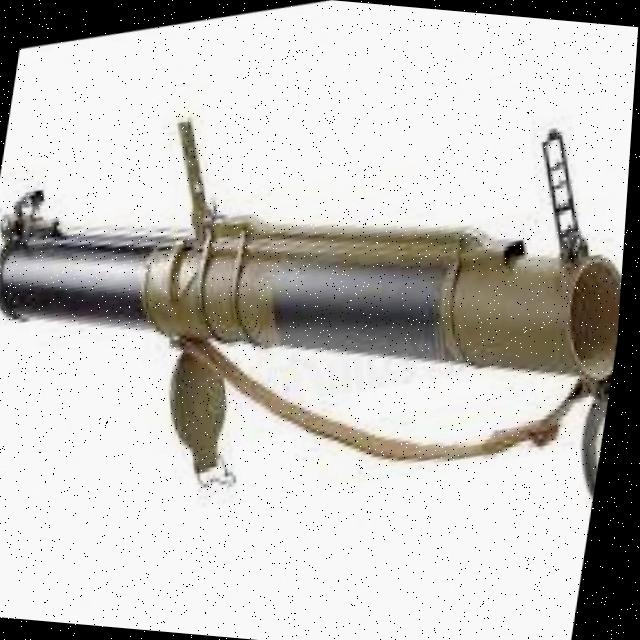rocket: (0, 27, 639, 640)
